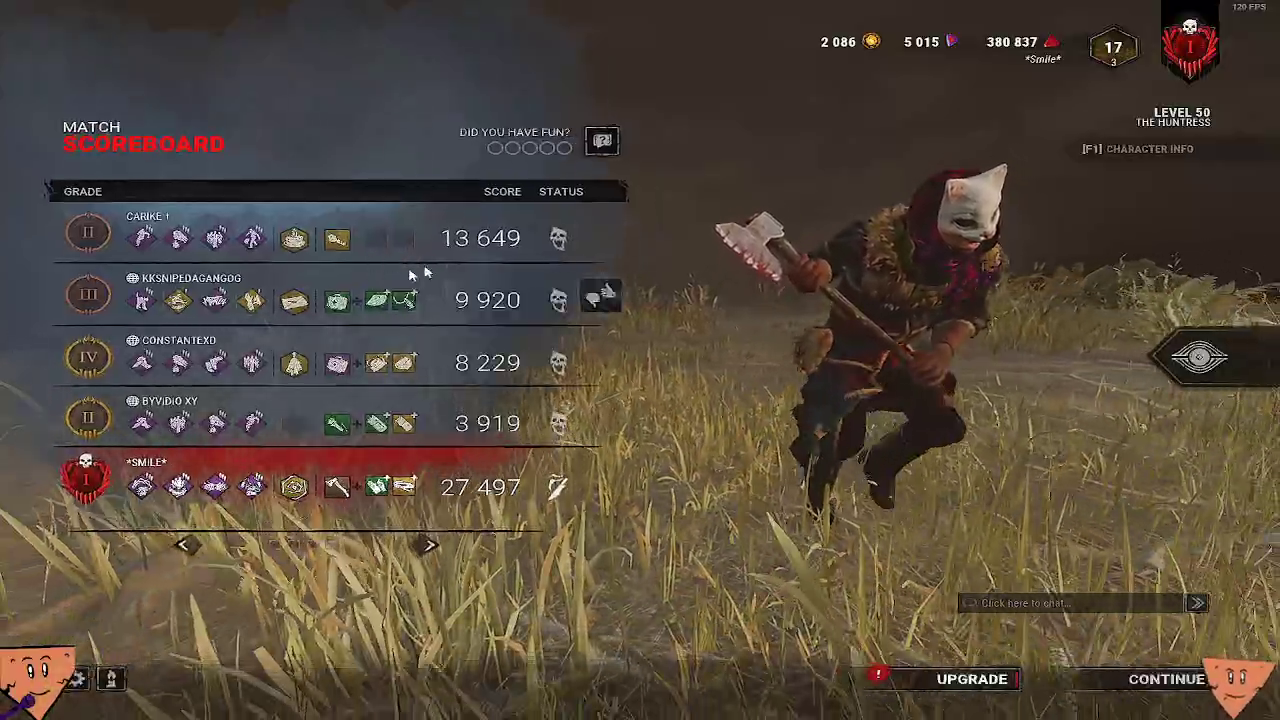bbq_and_chilli: (160, 475, 194, 499)
borrowed_time: (162, 227, 196, 251), (162, 351, 196, 375), (198, 412, 232, 436)
corrupt_intervention: (124, 475, 158, 499)
dead_hard: (124, 227, 158, 251), (235, 412, 269, 436)
decisive_strike: (125, 351, 159, 375), (125, 412, 159, 436)
lithe: (161, 289, 195, 313)
no_way_out: (236, 475, 270, 499)
prove_thyself: (199, 227, 233, 251), (237, 351, 271, 375), (162, 412, 196, 436)
self_care: (235, 289, 269, 313)
shadowborn: (197, 476, 231, 500)
spine_chill: (124, 289, 158, 313)
sprint_burst: (200, 351, 234, 375)
streetwise: (198, 289, 232, 313)
were_gonna_live_forever: (236, 227, 270, 251)
